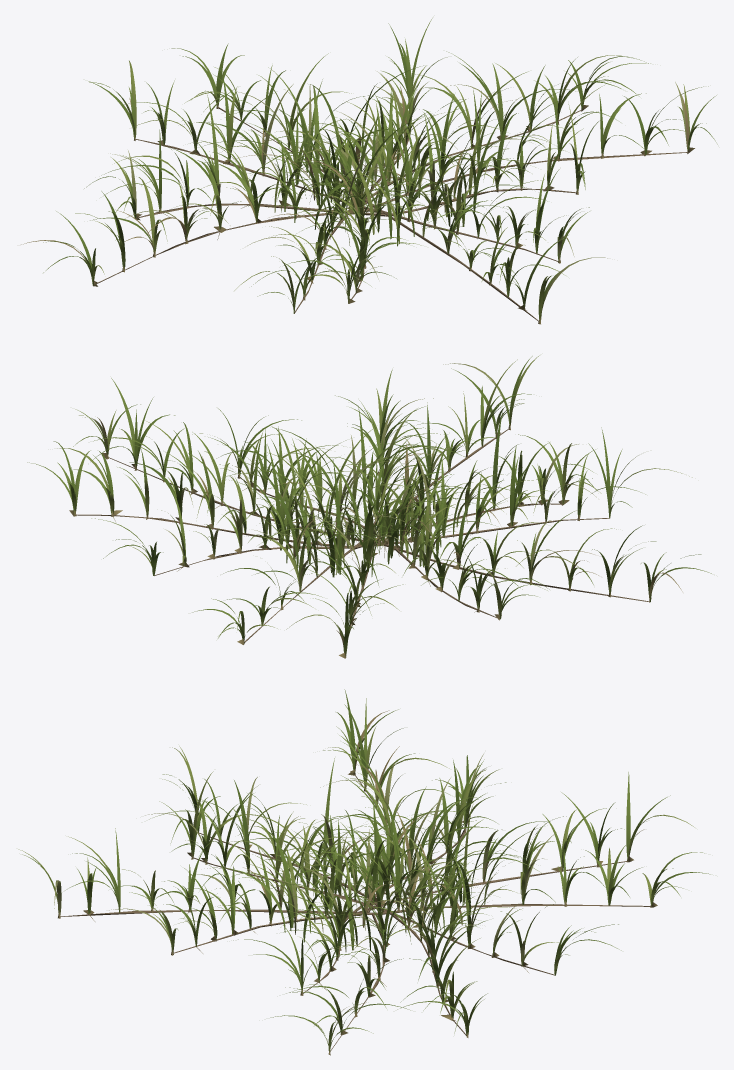
The picture shows the model from 3 angles, top to bottom: view 1: azimuth 30°, elevation 25°; view 2: azimuth 150°, elevation 25°; view 3: azimuth 270°, elevation 25°; orthographic projection. The views are drawn at different scales.
Visible parts, largest first — view 1: Blades • Leaf green, Blades • Leaf forest, Blades • Leaf young, Blades • Leaf shaded, Stolons • Runner ochre, Blades • Leaf olive, Blades • Dry sheath, Nodes • Dry sheath; view 2: Blades • Leaf green, Blades • Leaf forest, Blades • Leaf young, Blades • Leaf shaded, Blades • Leaf olive, Stolons • Runner ochre, Blades • Dry sheath, Nodes • Dry sheath; view 3: Blades • Leaf green, Blades • Leaf forest, Blades • Leaf young, Blades • Leaf shaded, Blades • Leaf olive, Stolons • Runner ochre, Blades • Dry sheath, Nodes • Dry sheath.
Part boxes in pixels (x1,y1,x2,y2): Blades • Leaf green: (75, 18, 716, 319); Blades • Leaf forest: (43, 43, 717, 320); Blades • Leaf young: (92, 55, 706, 320); Blades • Leaf shaded: (43, 23, 681, 302); Stolons • Runner ochre: (96, 107, 688, 321); Blades • Leaf olive: (110, 71, 687, 316); Blades • Dry sheath: (21, 86, 689, 291); Nodes • Dry sheath: (93, 104, 694, 324); Blades • Leaf green: (27, 369, 656, 655); Blades • Leaf forest: (53, 356, 711, 656); Blades • Leaf young: (57, 355, 692, 654); Blades • Leaf shaded: (93, 394, 701, 623); Blades • Leaf olive: (85, 363, 596, 617); Stolons • Runner ochre: (75, 428, 649, 642); Blades • Dry sheath: (97, 417, 682, 654); Nodes • Dry sheath: (69, 424, 651, 658); Blades • Leaf green: (58, 698, 704, 1051); Blades • Leaf forest: (22, 709, 710, 1050); Blades • Leaf young: (18, 726, 694, 1049); Blades • Leaf shaded: (86, 689, 629, 1032); Blades • Leaf olive: (54, 754, 556, 1046); Stolons • Runner ochre: (60, 774, 651, 1053); Blades • Dry sheath: (197, 710, 644, 1031); Nodes • Dry sheath: (58, 769, 657, 1055).
Size of the model in its own units: 0.5729 by 0.0801 by 0.5231.
